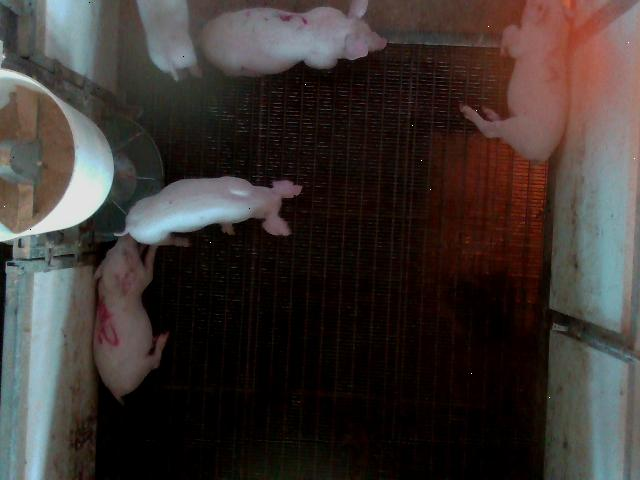pig-2: (460, 1, 569, 162)
pig-3: (199, 1, 386, 76)
pig-5: (94, 234, 169, 404)
